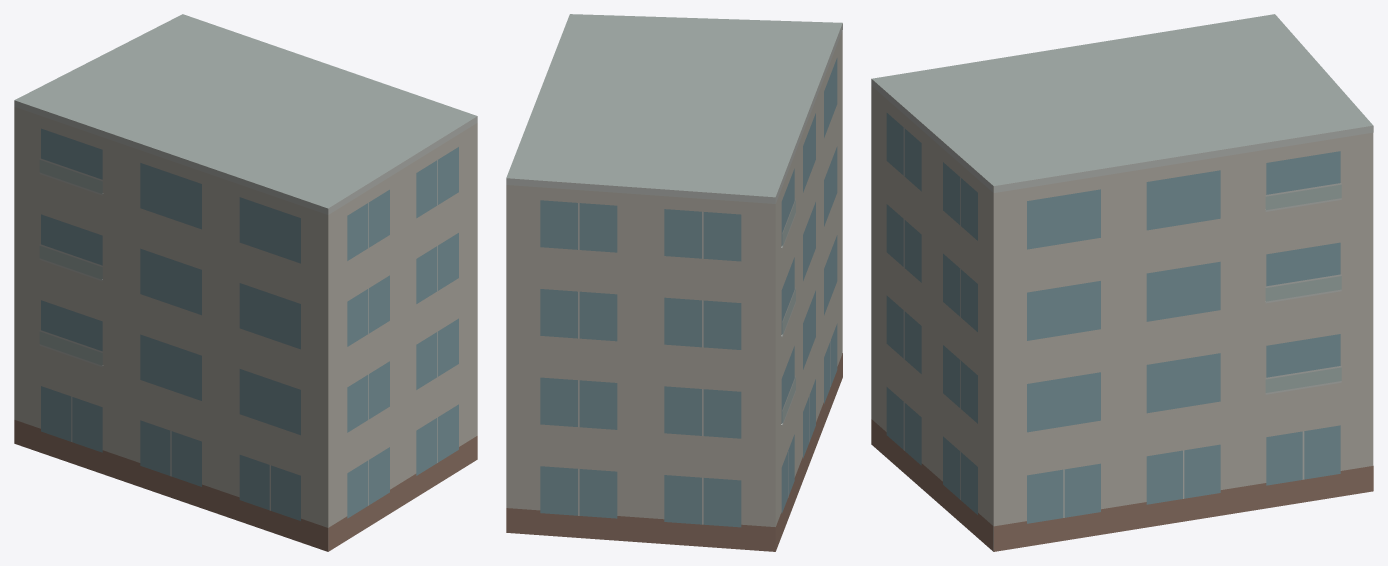
File: survey-upis-32751091.glb
The picture shows the model from 3 angles, left to right: view 1: azimuth 30°, elevation 25°; view 2: azimuth 150°, elevation 25°; view 3: azimuth 270°, elevation 25°; orthographic projection. The views are drawn at different scales.
Parts seen in each view (by area): view 1: survey-upis-32751091.tmp; view 2: survey-upis-32751091.tmp; view 3: survey-upis-32751091.tmp.
Boxes of the visible parts, x1,y1,x2,y2 form: survey-upis-32751091.tmp: (14, 14, 477, 551); survey-upis-32751091.tmp: (506, 14, 842, 551); survey-upis-32751091.tmp: (871, 14, 1373, 551).
Size of the model in its own units: 12.93 by 12.8 by 15.94.
